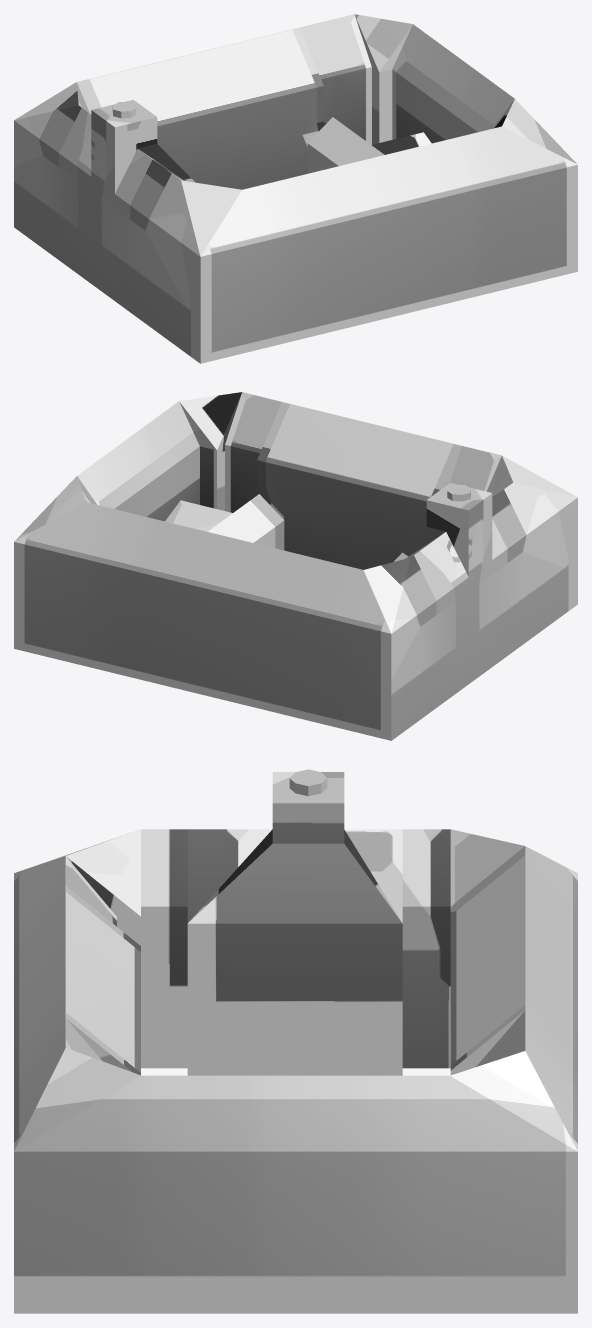
Rendered from beuth1.3_groesser.dae.
The picture shows the model from 3 angles, top to bottom: view 1: azimuth 30°, elevation 25°; view 2: azimuth 150°, elevation 25°; view 3: azimuth 270°, elevation 25°; orthographic projection. The views are drawn at different scales.
Parts seen in each view (by area): view 1: Mesh_002; view 2: Mesh_002; view 3: Mesh_002.
Part boxes in pixels (bbox=[...]): Mesh_002: bbox=[14, 14, 577, 363]; Mesh_002: bbox=[14, 392, 577, 740]; Mesh_002: bbox=[14, 769, 577, 1313].
Bounding box in the file's own units: 20.1 × 17.2 × 9.19.
Materials: 2 (2 with a texture image).
